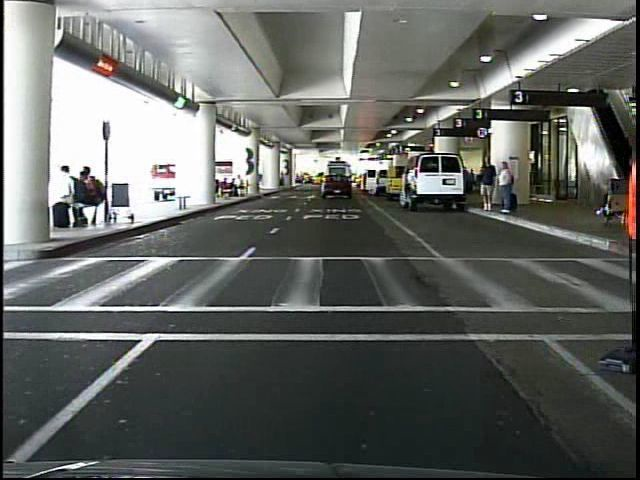person: (611, 110, 640, 379), (477, 152, 497, 217), (497, 158, 517, 220), (320, 170, 331, 194)
